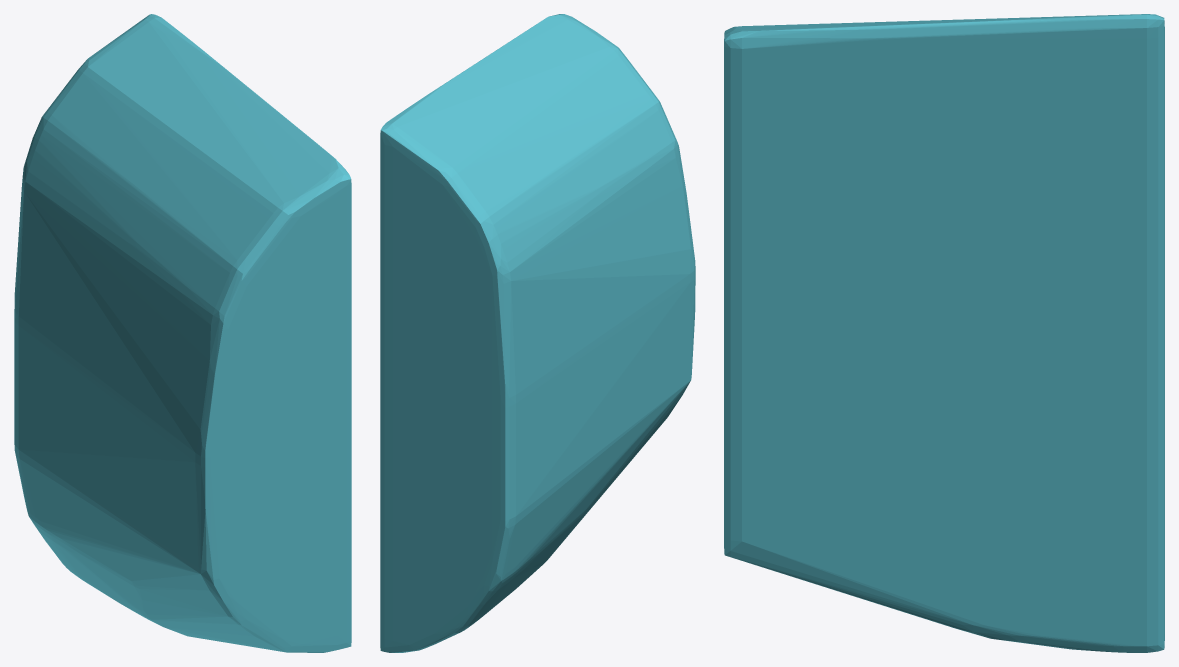
File: right_f_middle_part_2.obj
The picture shows the model from 3 angles, left to right: view 1: azimuth 30°, elevation 25°; view 2: azimuth 150°, elevation 25°; view 3: azimuth 270°, elevation 25°; orthographic projection. The views are drawn at different scales.
Bounding box in the file's own units: 4.51 × 16.38 × 10.28.
